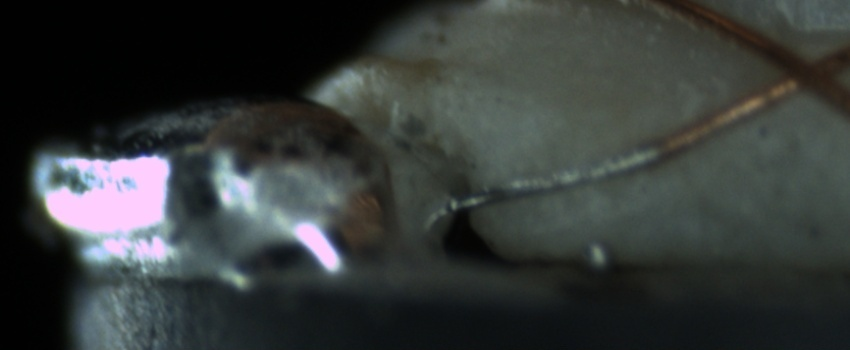CL: (753, 34, 844, 107)
TS: (442, 146, 657, 210)
